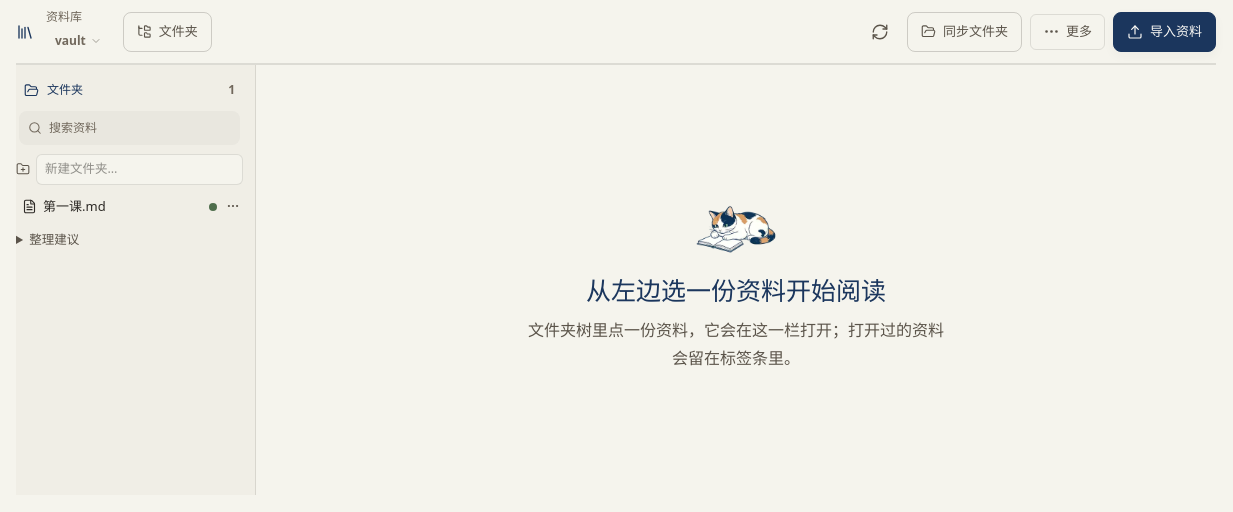
Test: 资料库文件夹同步 › 资料库只有文件夹树这一套导航，没有重复的平铺列表
Expected: the element with class "library-tree-pane" is shown, [16,65,256,495]
Expected: the text "第一课.md" is shown, [43,197,106,215]
Click the button "文件夹" at (167, 32), box [123,12,212,52]
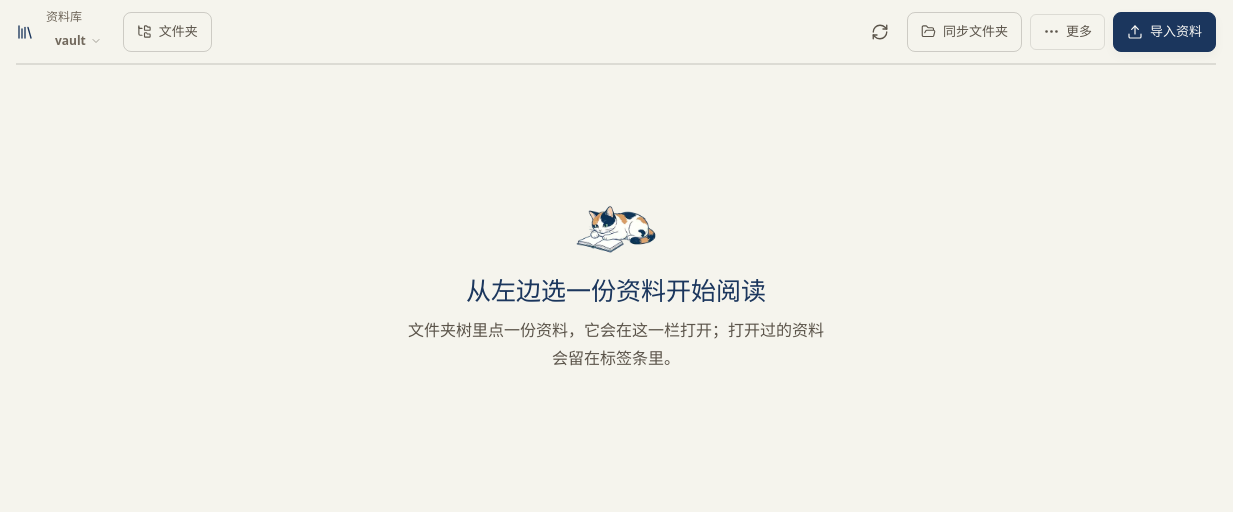
Now the element with class "library-tree-pane" is gone
Click the button "文件夹" at (167, 32), box [123,12,212,52]
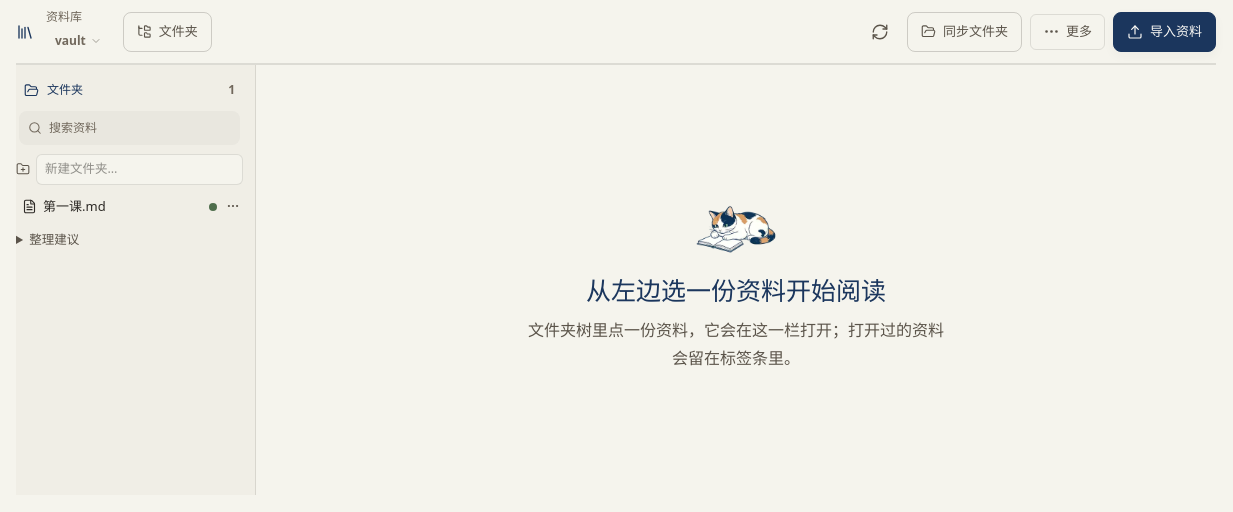
Now the element with class "library-tree-pane" is shown, box [16,65,256,495]
